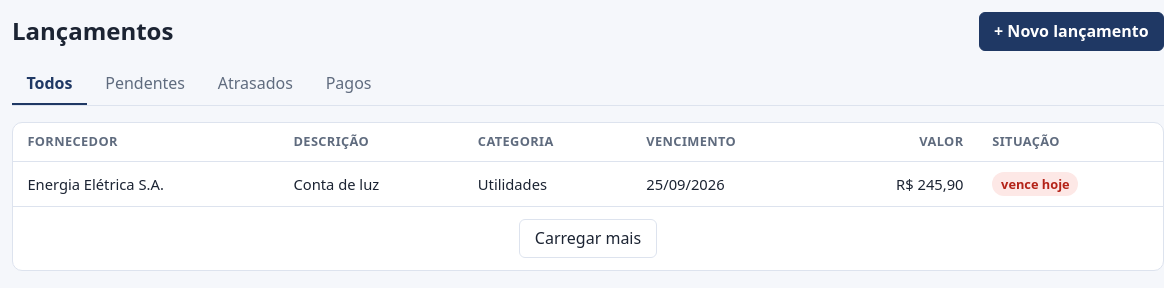
Test case: LancamentosPage › carrega a próxima página pelo cursor
This screenshot has width=1164, height=288.
Click the button "Carregar mais" at (588, 238), box [519,219,656,258]
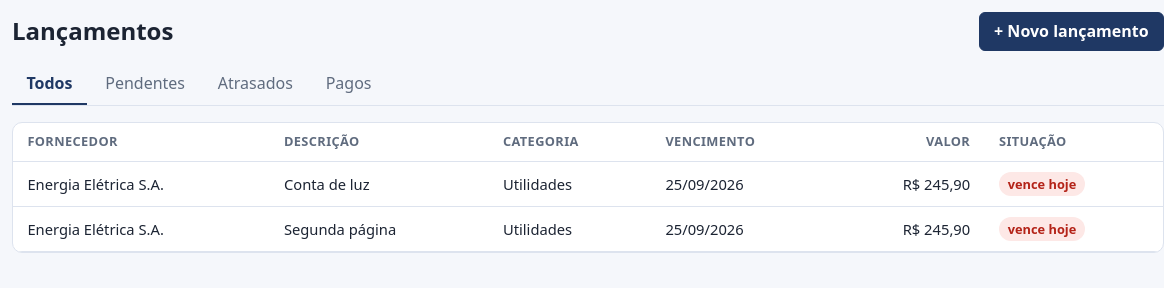
Expected: the text "Segunda página" is shown, [270,206,488,251]
Expected: the button "Carregar mais" is gone
